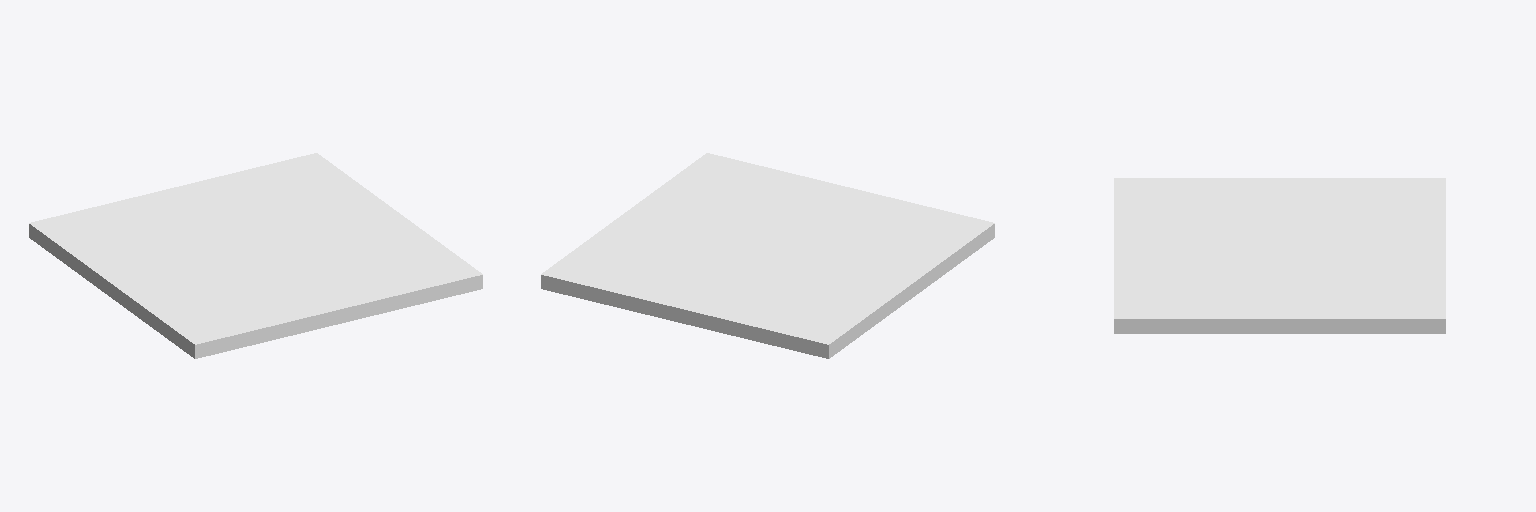
The model's file is Ground.obj.
3 renders of one model, left to right at view 1: azimuth 30°, elevation 25°; view 2: azimuth 150°, elevation 25°; view 3: azimuth 270°, elevation 25°, orthographic.
Parts seen in each view (by area): view 1: Ground; view 2: Ground; view 3: Ground.
Boxes of the visible parts, <box> form: Ground: <box>29,153,482,358</box>; Ground: <box>541,153,994,358</box>; Ground: <box>1114,178,1445,333</box>.
Bounding box in the file's own units: 126 × 6 × 126.